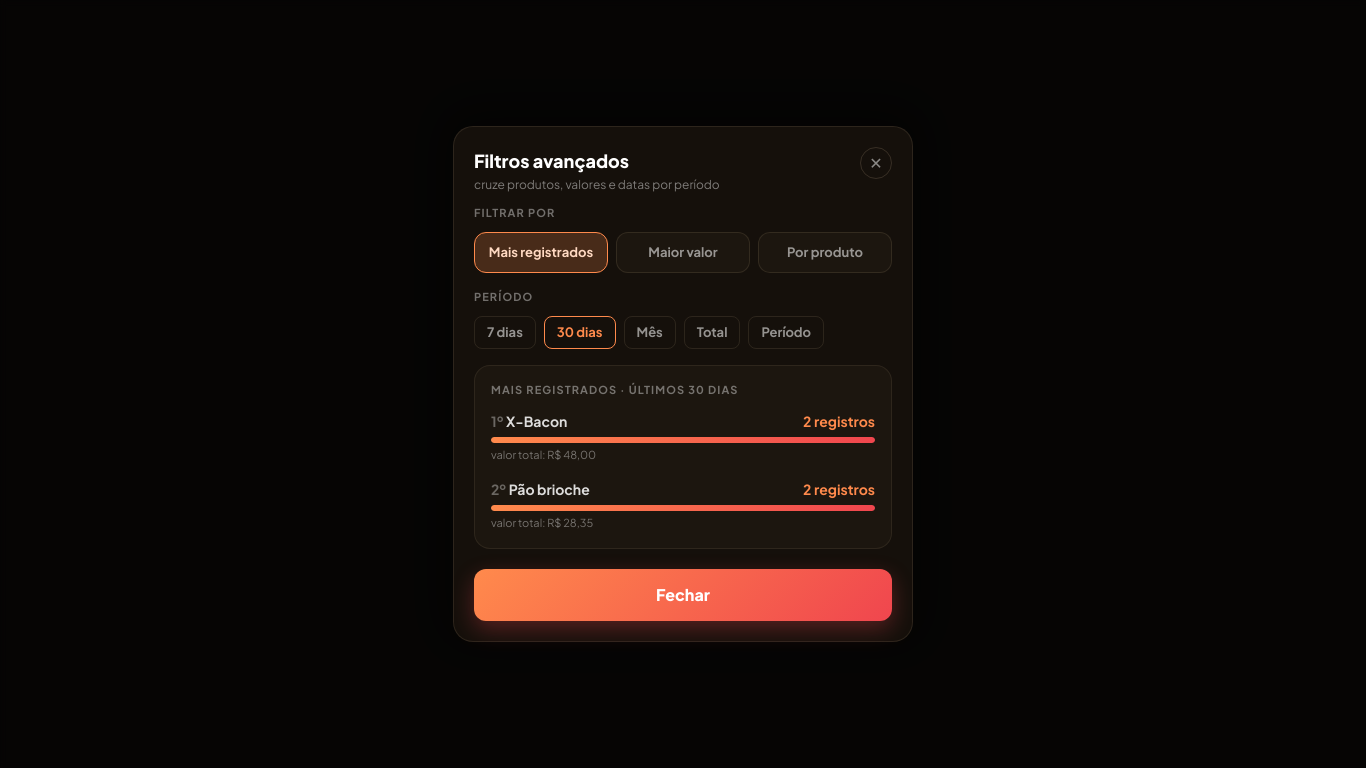
Scenario: FiltrosModal › atualiza o rótulo do período ao trocar o recorte
Click the button "7 dias" at (505, 333), box top-left (474, 316), bottom-right (536, 349)
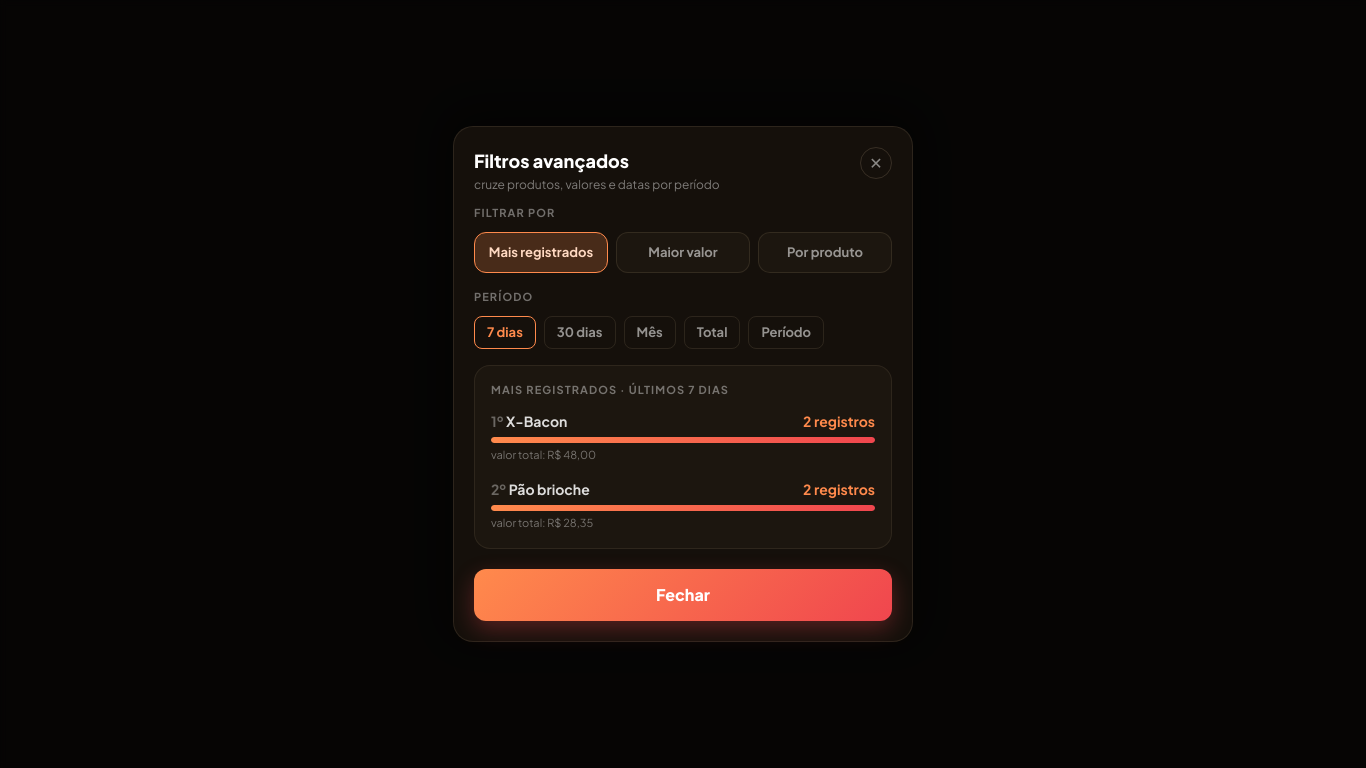
Check: the text "MAIS REGISTRADOS · ÚLTIMOS 7 DIAS" is shown, box top-left (491, 383), bottom-right (729, 396)
